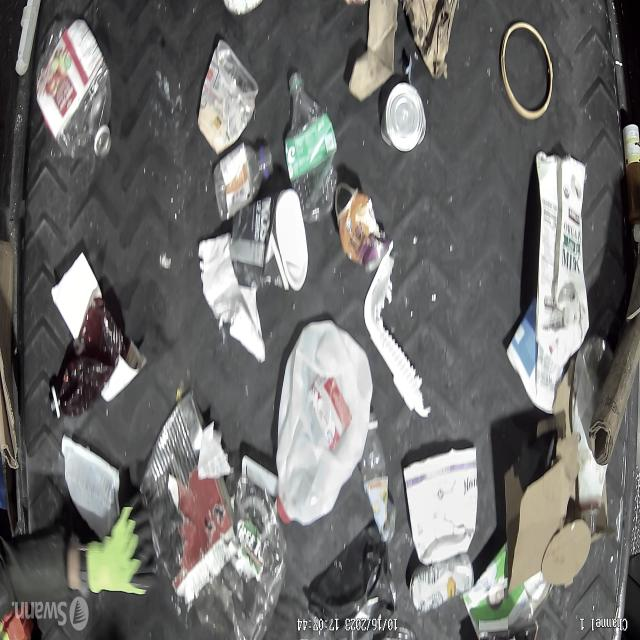can: (381, 75, 426, 159)
milk_jug: (270, 335, 370, 531)
non_white_jug: (39, 21, 120, 169)
plastic_bottle: (280, 65, 336, 228)
